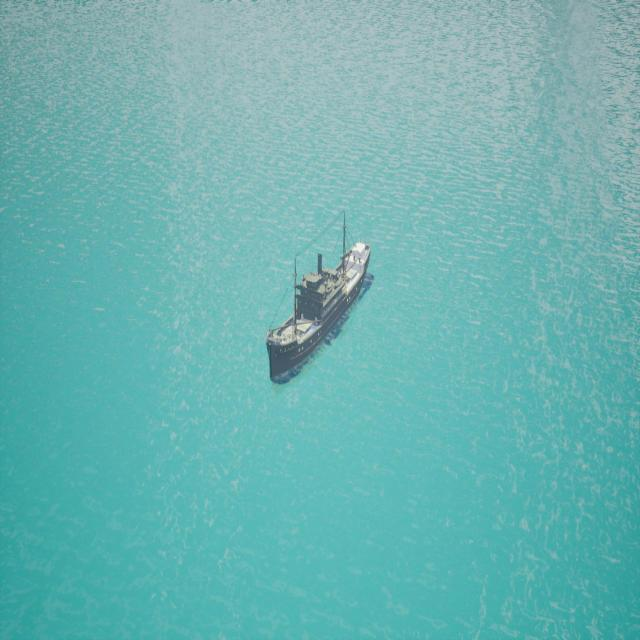fishing ship: (263, 245, 376, 387)
